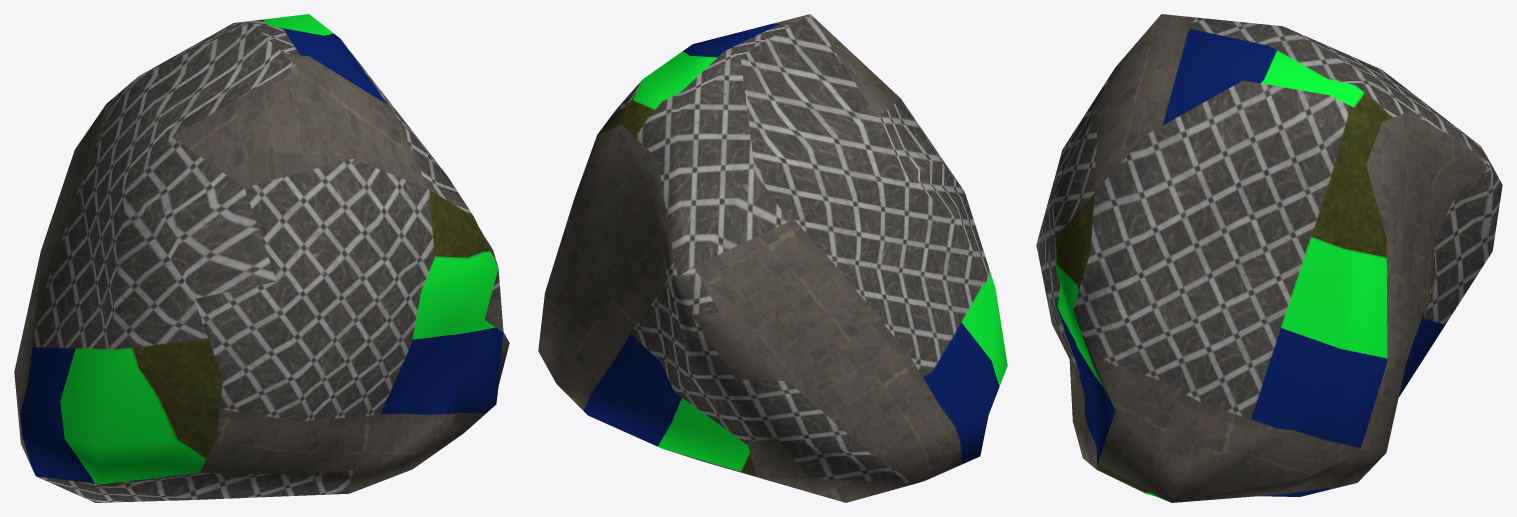
File: Rock2.fbx
The picture shows the model from 3 angles, left to right: view 1: azimuth 30°, elevation 25°; view 2: azimuth 150°, elevation 25°; view 3: azimuth 270°, elevation 25°; orthographic projection. The views are drawn at different scales.
Visible parts, largest first — view 1: Rock2; view 2: Rock2; view 3: Rock2.
Part boxes in pixels (bbox=[...]): Rock2: bbox=[14, 14, 509, 502]; Rock2: bbox=[538, 14, 1007, 502]; Rock2: bbox=[1036, 14, 1502, 502].
Size of the model in its own units: 202 by 184 by 176.
